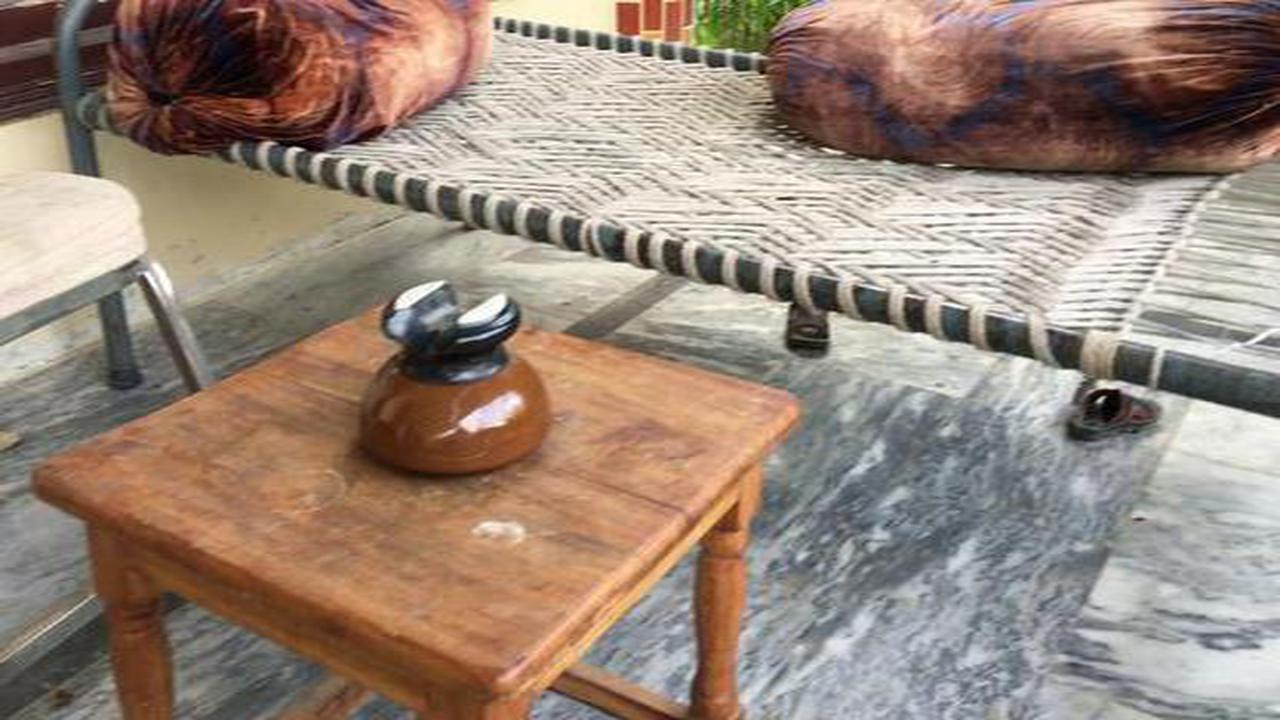insulator_pin: (342, 260, 573, 487)
